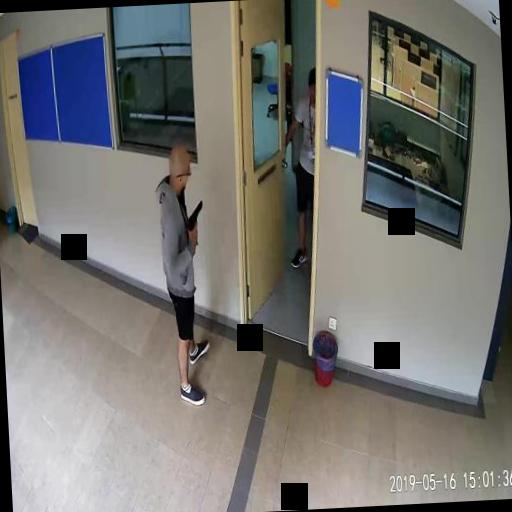Handgun: (185, 198, 203, 240)
